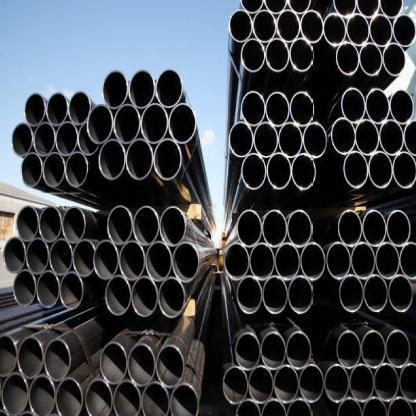pipe: (128, 343, 156, 387), (156, 345, 184, 389), (1, 373, 30, 415), (154, 138, 182, 181), (100, 342, 128, 385), (169, 103, 197, 144), (158, 277, 185, 319), (29, 374, 56, 416), (141, 103, 169, 143), (45, 338, 71, 381), (126, 139, 153, 180), (99, 139, 126, 180), (132, 276, 158, 318), (18, 337, 44, 379), (155, 69, 183, 108), (159, 207, 186, 247), (119, 241, 146, 281), (106, 275, 132, 316), (56, 377, 84, 415), (114, 105, 141, 144), (113, 379, 142, 415), (93, 240, 119, 280), (146, 242, 172, 282), (129, 69, 155, 109), (87, 105, 113, 144), (107, 206, 133, 245), (288, 276, 314, 315), (102, 70, 128, 109), (85, 379, 113, 415), (134, 206, 159, 246), (173, 243, 198, 283), (236, 276, 262, 314), (235, 333, 261, 371), (222, 366, 248, 404), (141, 381, 170, 415), (386, 330, 411, 369), (325, 364, 350, 403), (299, 364, 324, 403), (170, 383, 200, 415), (237, 209, 262, 247), (263, 210, 288, 248), (288, 210, 313, 248), (327, 242, 352, 280), (250, 243, 275, 281), (275, 243, 300, 281), (301, 243, 326, 281), (224, 243, 249, 281), (363, 275, 388, 313), (263, 277, 288, 315), (337, 331, 362, 369), (286, 332, 311, 370), (261, 332, 286, 370), (350, 364, 375, 402), (274, 365, 299, 403), (249, 366, 274, 404), (374, 363, 398, 402), (343, 151, 368, 188), (292, 153, 317, 190), (362, 210, 387, 247), (339, 275, 364, 312), (62, 206, 86, 244), (351, 242, 375, 280), (60, 272, 84, 310), (362, 330, 386, 368), (341, 87, 366, 123), (229, 121, 254, 157), (241, 154, 266, 190), (338, 210, 363, 246), (331, 118, 355, 155), (369, 151, 393, 188), (267, 153, 291, 190), (387, 210, 411, 247), (376, 242, 400, 279), (389, 275, 413, 312), (290, 92, 315, 127), (73, 239, 96, 277), (37, 270, 60, 308), (355, 120, 379, 156), (380, 120, 404, 156), (303, 122, 327, 158), (65, 151, 89, 187), (16, 205, 39, 242), (26, 237, 49, 274), (14, 269, 37, 306), (366, 88, 390, 123), (242, 91, 266, 126), (266, 92, 290, 127), (254, 122, 278, 157), (393, 151, 415, 189), (39, 206, 62, 242), (3, 237, 26, 273), (390, 90, 414, 124), (290, 38, 314, 72), (266, 38, 290, 72), (241, 39, 265, 73), (336, 42, 360, 76), (43, 152, 65, 188), (229, 10, 253, 43), (277, 10, 301, 43), (324, 13, 347, 47), (360, 42, 383, 76), (69, 91, 91, 126), (56, 121, 78, 156), (12, 122, 34, 157), (34, 122, 56, 157), (301, 10, 324, 43), (347, 14, 370, 47), (370, 14, 393, 47), (393, 15, 416, 48), (383, 43, 406, 76), (253, 10, 276, 42), (21, 152, 42, 187), (0, 334, 17, 377), (47, 92, 68, 126), (78, 124, 100, 156), (25, 93, 46, 126), (399, 362, 415, 403), (400, 242, 416, 281), (387, 397, 414, 415), (356, 0, 381, 19), (379, 0, 404, 19), (286, 398, 312, 416), (363, 397, 388, 415), (337, 397, 362, 415), (404, 120, 416, 157), (261, 399, 287, 415), (235, 399, 261, 415), (334, 0, 357, 17), (287, 0, 312, 15), (264, 0, 288, 15), (240, 0, 264, 14)
